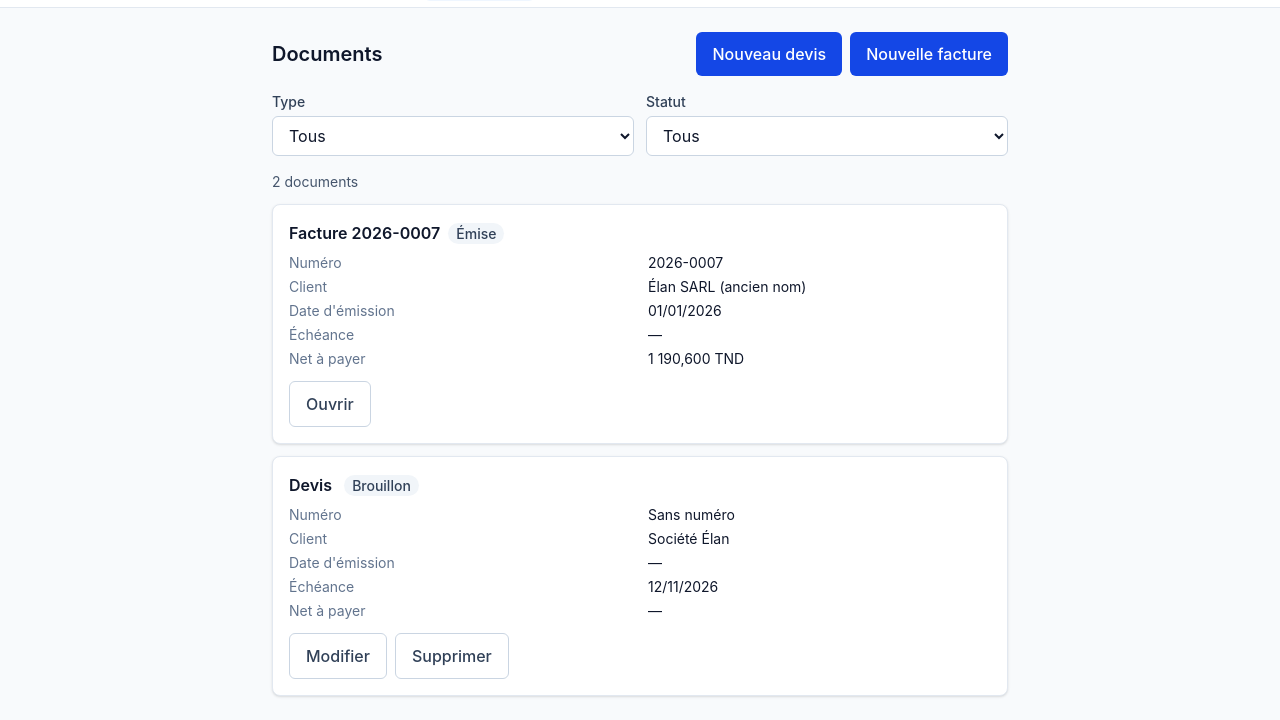
deleting a draft › asks for a confirmation first, and cancelling deletes nothing
The image size is (1280, 720).
(page scrolled)
Click the button with aria-label "Supprimer : Devis en brouillon, Société Élan" at {"x": 452, "y": 656}, box [395,633,509,679]
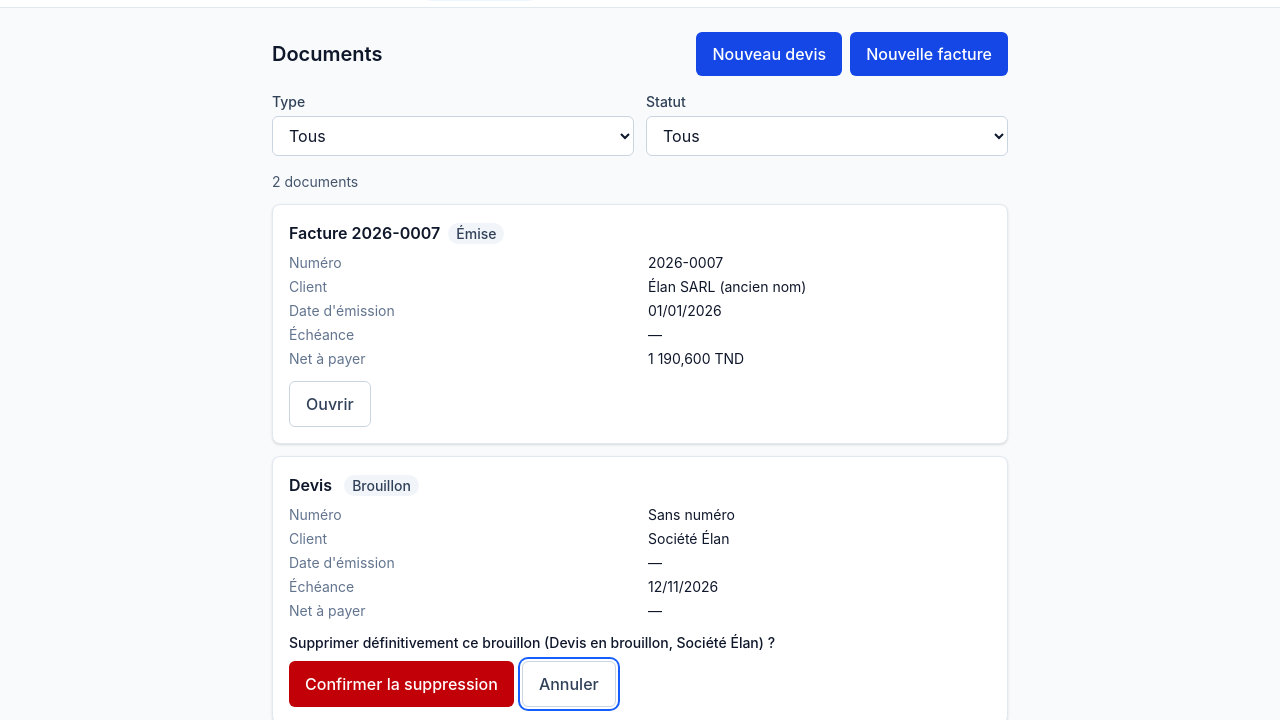
Result: the text "Supprimer définitivement ce brouillon (Devis en brouillon, Société Élan) ?" is shown at [289,634,775,651]
Click the button "Annuler" at {"x": 569, "y": 684}, box [522,661,616,707]
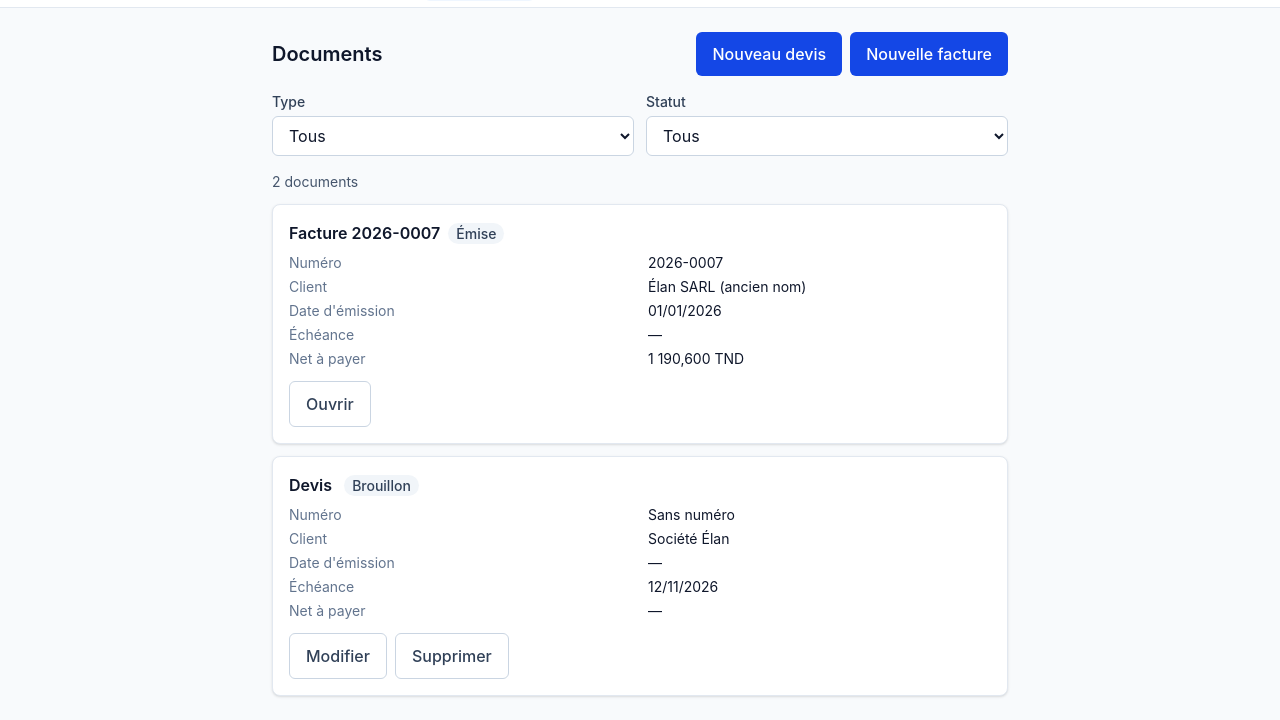
Result: the button "Confirmer la suppression" is gone
